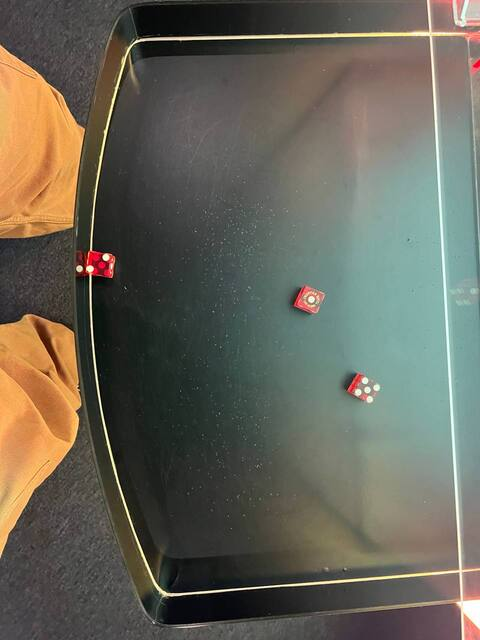five: (348, 371, 384, 408)
one: (292, 283, 327, 316)
two: (82, 250, 117, 279)
